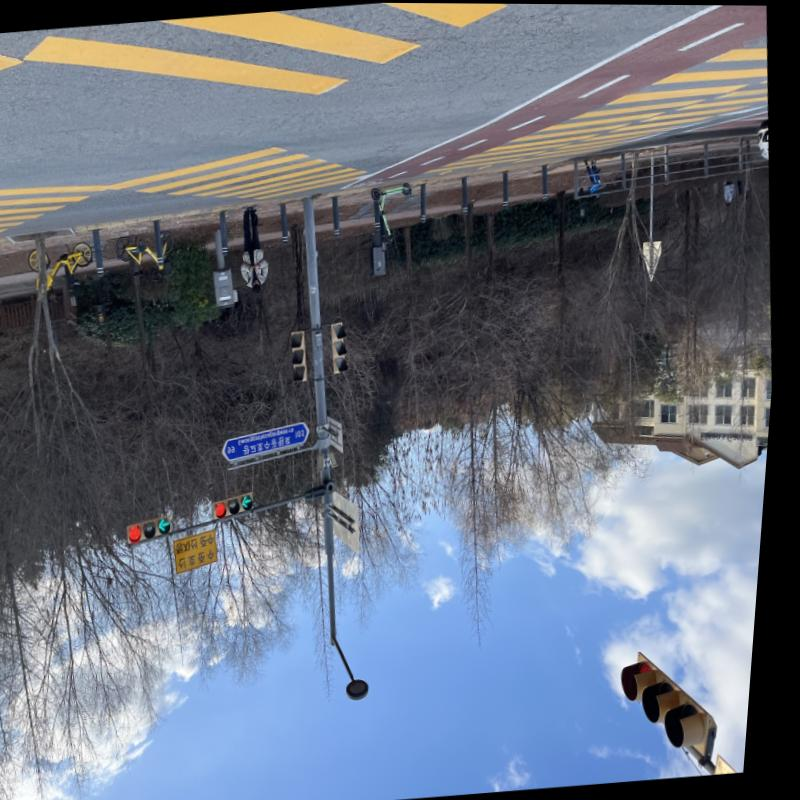left: (166, 516, 180, 535), (248, 493, 261, 511)
red: (136, 523, 151, 543), (222, 501, 235, 518)
